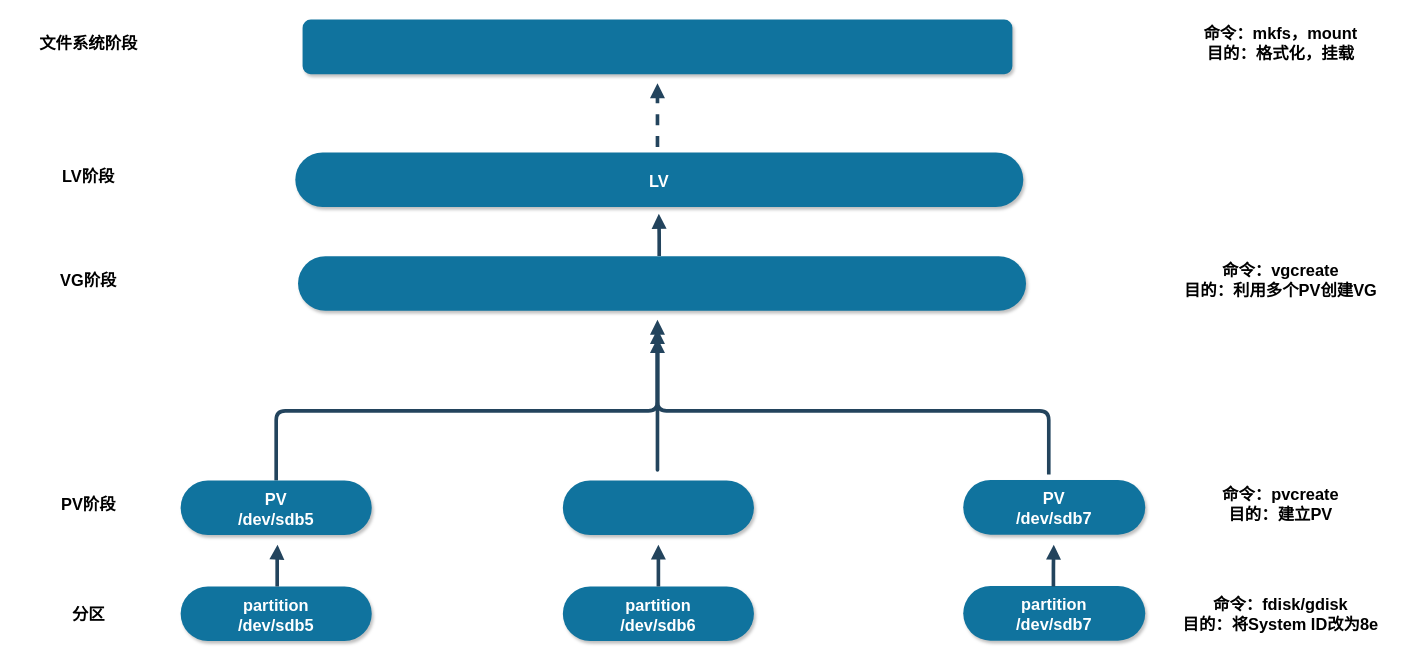
This 1410x662 diagram has some shape labels left out. The centre of each missing label's shape, as x and y in pixels:
PV /dev/sdb6: (659,508)
VG: (662,284)
格式化后，挂载到Linux文件系统中: (657,47)
